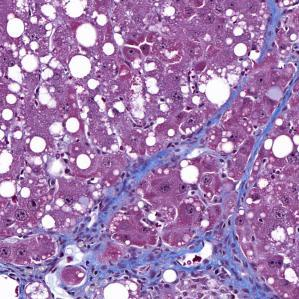fibrosis: (144, 231, 246, 294), (53, 229, 123, 288), (119, 150, 175, 190)
